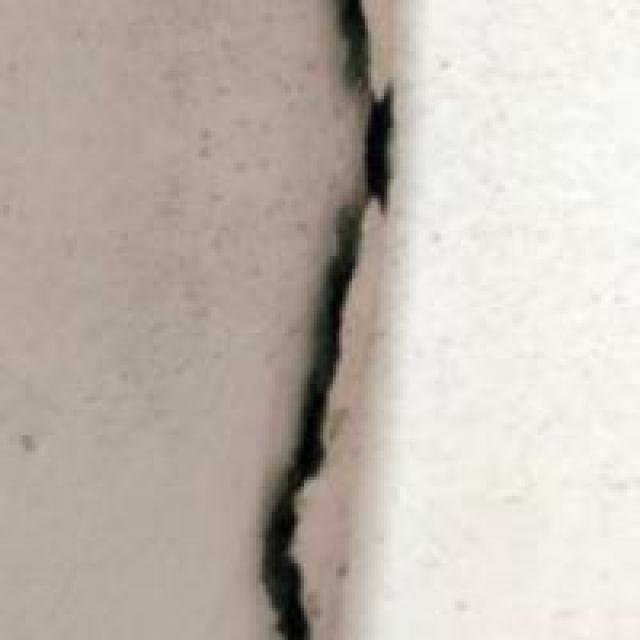Crack: (218, 0, 448, 637)
